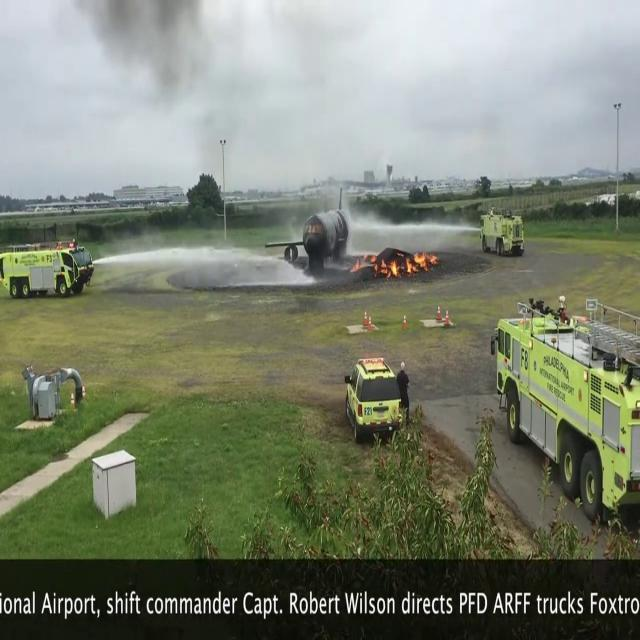Fire: (372, 243, 439, 281)
Smoke: (96, 0, 282, 138)
